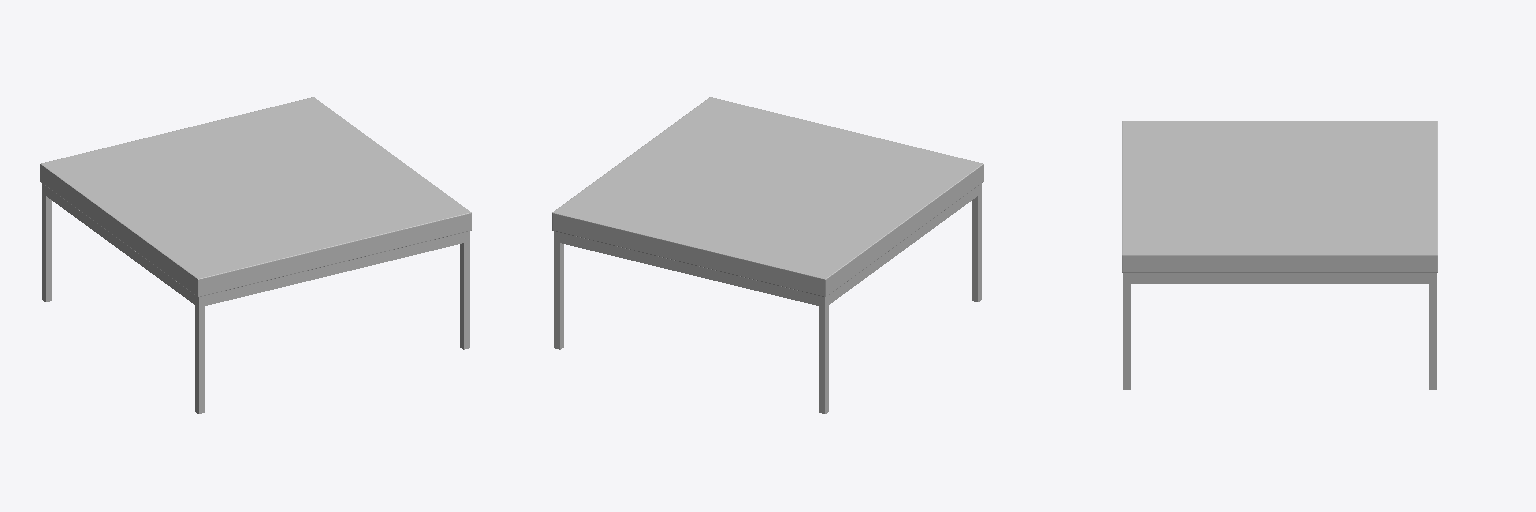
The model's file is IKEA-KLUBBO_coffee_table-3D.obj.
3 views of the same model, side by side, from view 1: azimuth 30°, elevation 25°; view 2: azimuth 150°, elevation 25°; view 3: azimuth 270°, elevation 25° (orthographic).
Parts seen in each view (by area): view 1: Box003, Box002, Rectangle001, Rectangle004, Rectangle002; view 2: Box003, Box002, Rectangle002, Rectangle003, Rectangle001; view 3: Box003, Box002, Rectangle003, Rectangle004.
Part boxes in pixels (x1,y1,x2,y2): Box003: (40,97,471,296); Box002: (42,183,469,307); Rectangle001: (195,305,204,413); Rectangle004: (460,242,469,349); Rectangle002: (42,193,51,301); Box003: (552,97,983,296); Box002: (554,183,981,307); Rectangle002: (819,305,828,413); Rectangle003: (554,242,563,349); Rectangle001: (972,193,981,301); Box003: (1122,121,1437,272); Box002: (1123,273,1436,283); Rectangle003: (1429,284,1436,389); Rectangle004: (1123,284,1130,389).
Size of the model in its own units: 780 by 370 by 780.